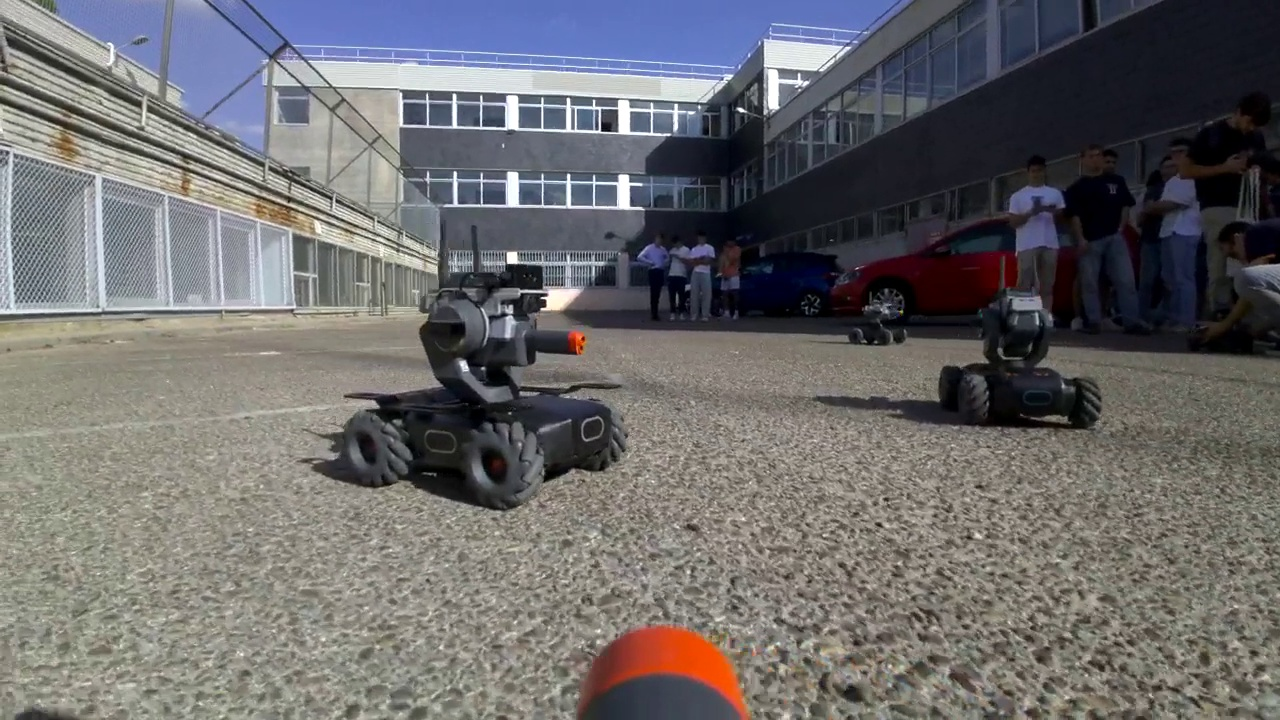robot: (343, 220, 632, 511), (937, 251, 1103, 428), (847, 287, 909, 348)
